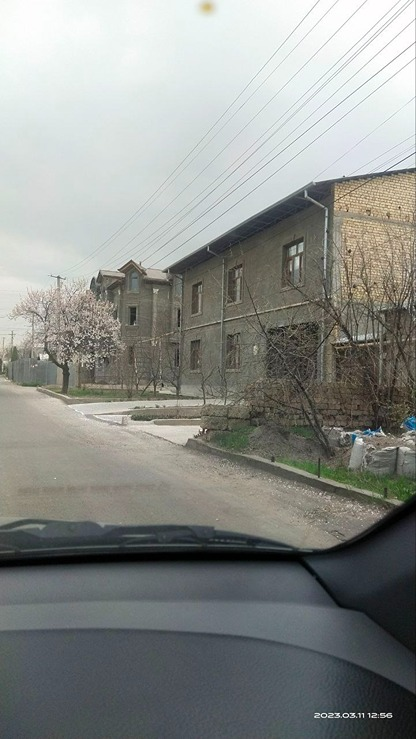tree: (10, 270, 120, 390)
